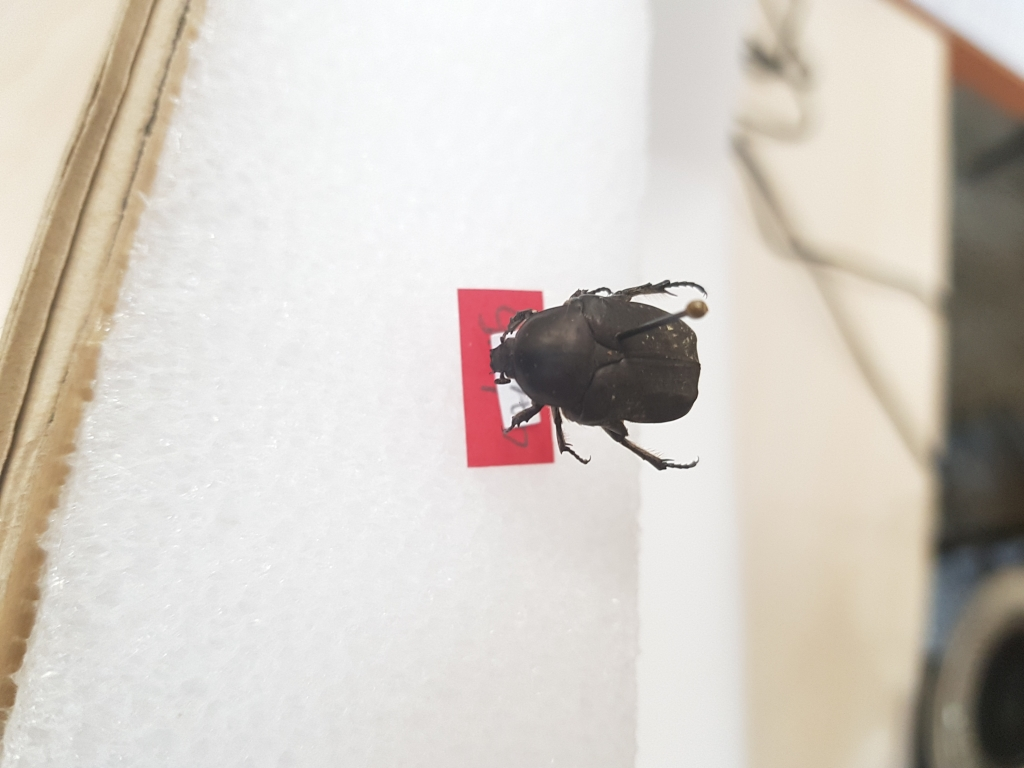Protaetia_asiatica: (487, 266, 728, 484)
